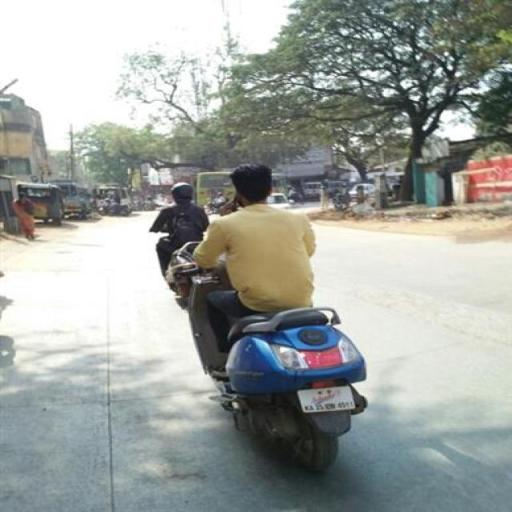using mobile: (223, 188, 247, 218)
